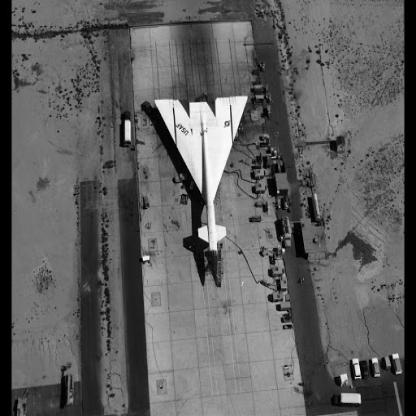XB70: (155, 95, 250, 288)
